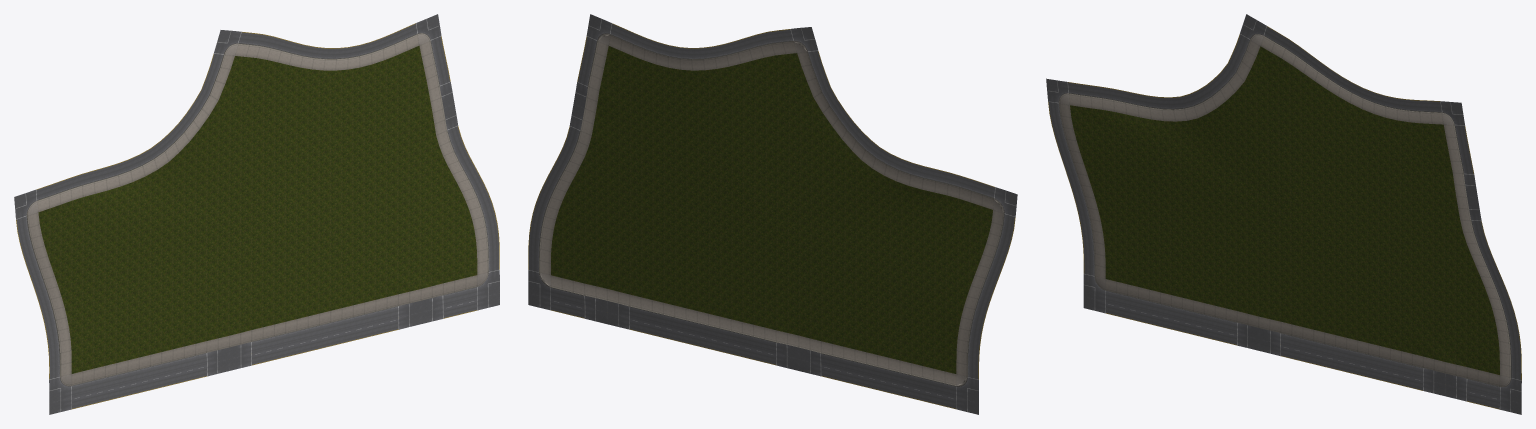
Rendered from block7.obj.
The picture shows the model from 3 angles, left to right: view 1: azimuth 30°, elevation 25°; view 2: azimuth 150°, elevation 25°; view 3: azimuth 330°, elevation 25°; orthographic projection. The views are drawn at different scales.
Parts seen in each view (by area): view 1: block7; view 2: block7; view 3: block7.
Part boxes in pixels (x1,y1,x2,y2): block7: (14,14,499,414); block7: (528,14,1017,414); block7: (1046,14,1521,414).
Size of the model in its own units: 216 by 146 by 1.85.
